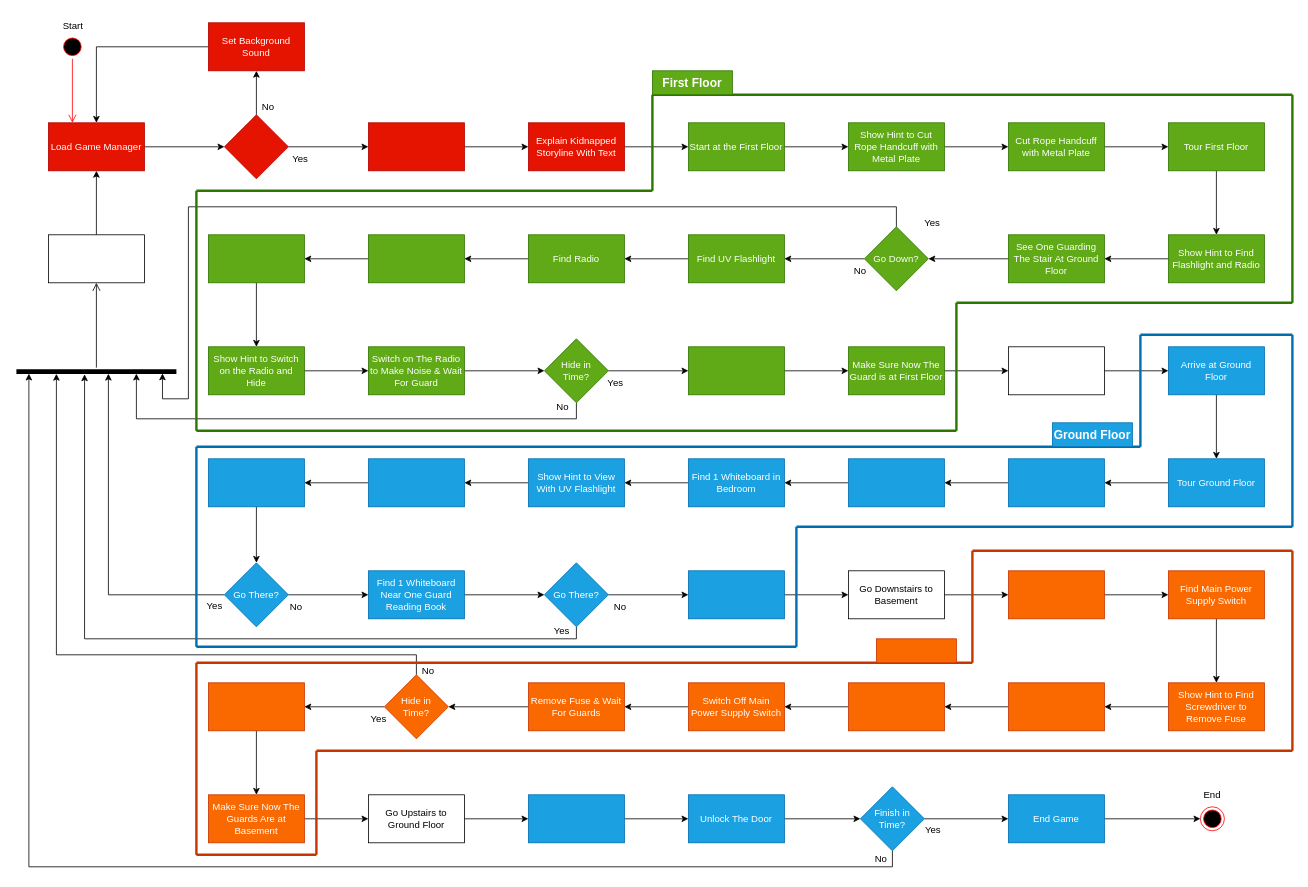
Some shapes in this 1308 by 887 pixel diagram are drawn without their labels. The shapes that lost their labels are listed below. From the top down, each one's centre as x and y in pixels, then its label:
At point (256, 146): "Play?".
At point (416, 146): "Load Game".
At point (96, 258): "Catch By Guard and Game Over".
At point (256, 258): "Find Batteries".
At point (416, 258): "Show Hint to Find Batteries to Use Flashlight & Radio".
At point (736, 370): "Make The Guard Comes Upstairs".
At point (1056, 370): "Go Downstairs to Ground Floor".
At point (256, 482): "Find 1 Whiteboard Near One Guard Watching TV".
At point (416, 482): "Get 1 Pin".
At point (896, 482): "Show Hint to Search Pins on Whiteboard".
At point (1056, 482): "See 2 Exit Doors With 3 Pin Locked".
At point (736, 594): "Find Basement Door".
At point (1056, 594): "Arrive at Basement and Tour".
At point (916, 650): "Basement".
At point (256, 706): "Make The Guards Comes Downstairs".
At point (896, 706): "Open Switch Cover".
At point (1056, 706): "Find Screwdriver".
At point (576, 818): "Search 2 Pins".
